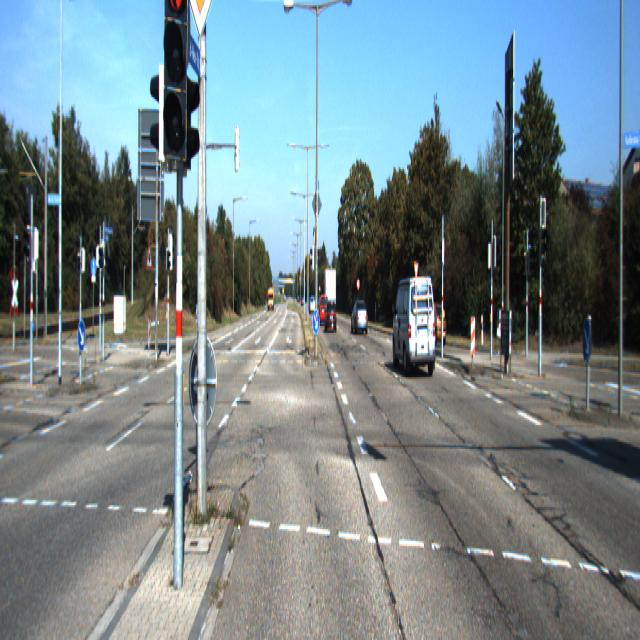Car: (412, 298, 447, 344), (351, 298, 368, 335)
DontCare: (310, 294, 336, 330), (266, 283, 274, 313)
Van: (392, 271, 437, 379)
